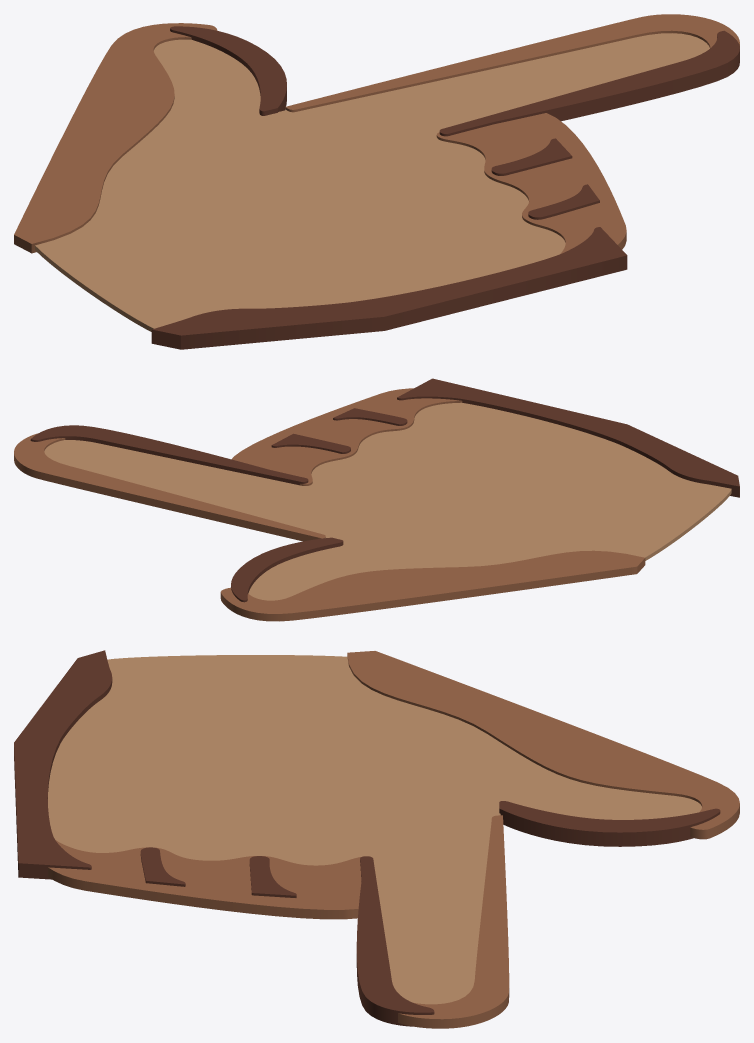
Rendered from emoji_u1f449_1f3fd.glb.
3 renders of one model, top to bottom at view 1: azimuth 30°, elevation 25°; view 2: azimuth 150°, elevation 25°; view 3: azimuth 270°, elevation 25°, orthographic. The views are drawn at different scales.
Parts seen in each view (by area): view 1: emoji_u1f449_1f3fd; view 2: emoji_u1f449_1f3fd; view 3: emoji_u1f449_1f3fd.
Part boxes in pixels (x1=…): emoji_u1f449_1f3fd: x1=14, y1=14, x2=739, y2=349; emoji_u1f449_1f3fd: x1=14, y1=378, x2=739, y2=621; emoji_u1f449_1f3fd: x1=14, y1=650, x2=739, y2=1028.
Size of the model in its own units: 0.0331 by 0.0006 by 0.0276.
